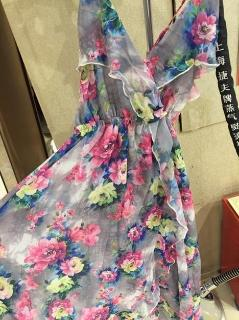sling: (0, 0, 221, 319)
